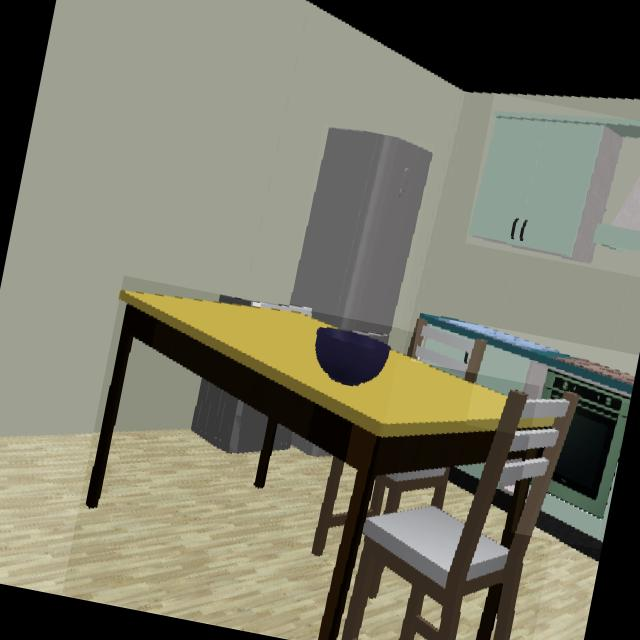cabinet: (466, 114, 640, 268), (475, 338, 550, 428)
chair: (342, 392, 579, 640)
countertop: (416, 314, 635, 404)
fridge: (289, 129, 433, 339)
oven: (544, 359, 633, 549)
table: (119, 292, 507, 640)
